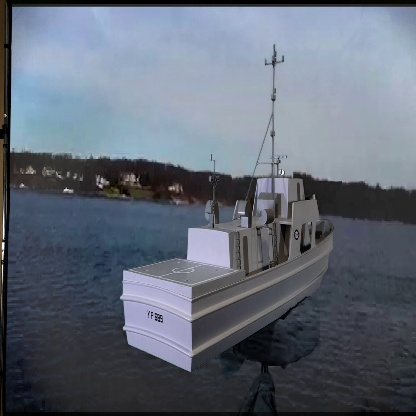YP689: (120, 38, 332, 374)
